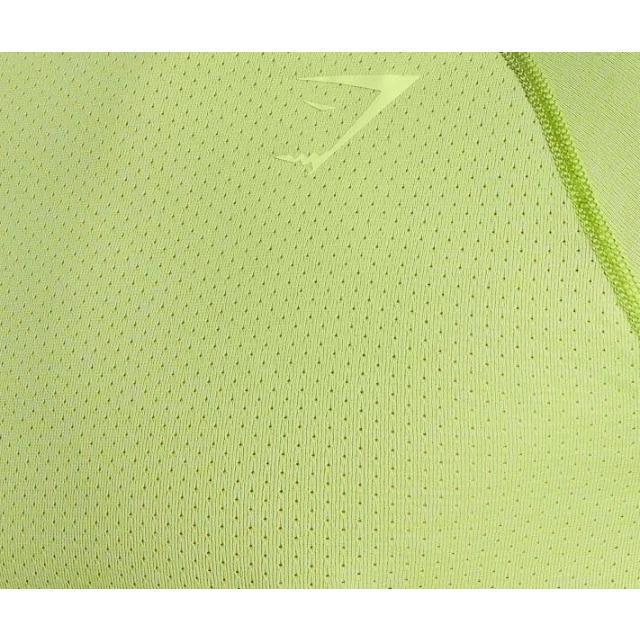polyester: (0, 51, 640, 588)
